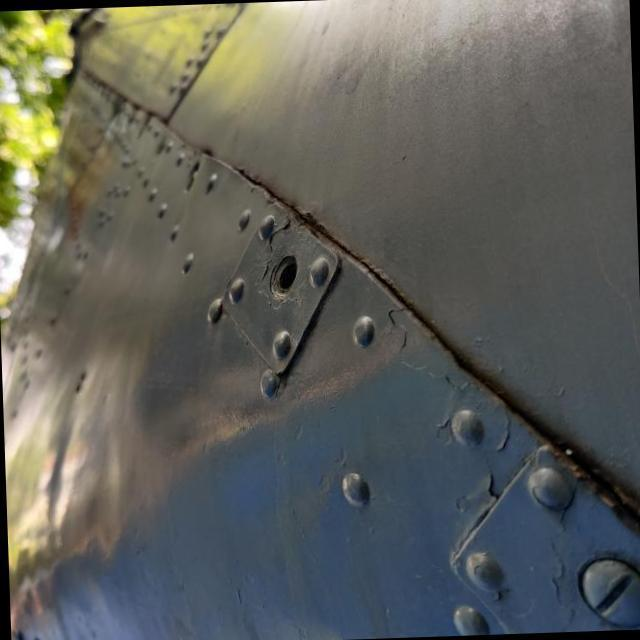Fastener Damage: (236, 230, 320, 319)
